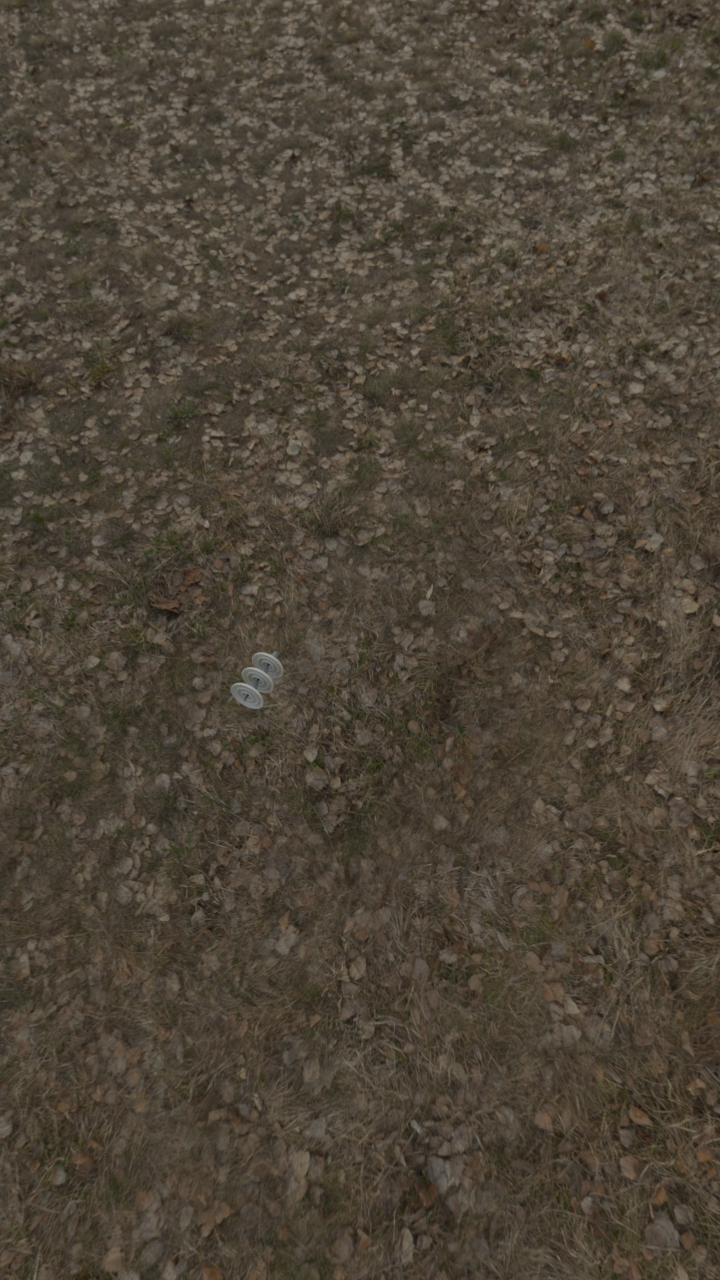ceramicinsulators: (230, 651, 284, 709)
